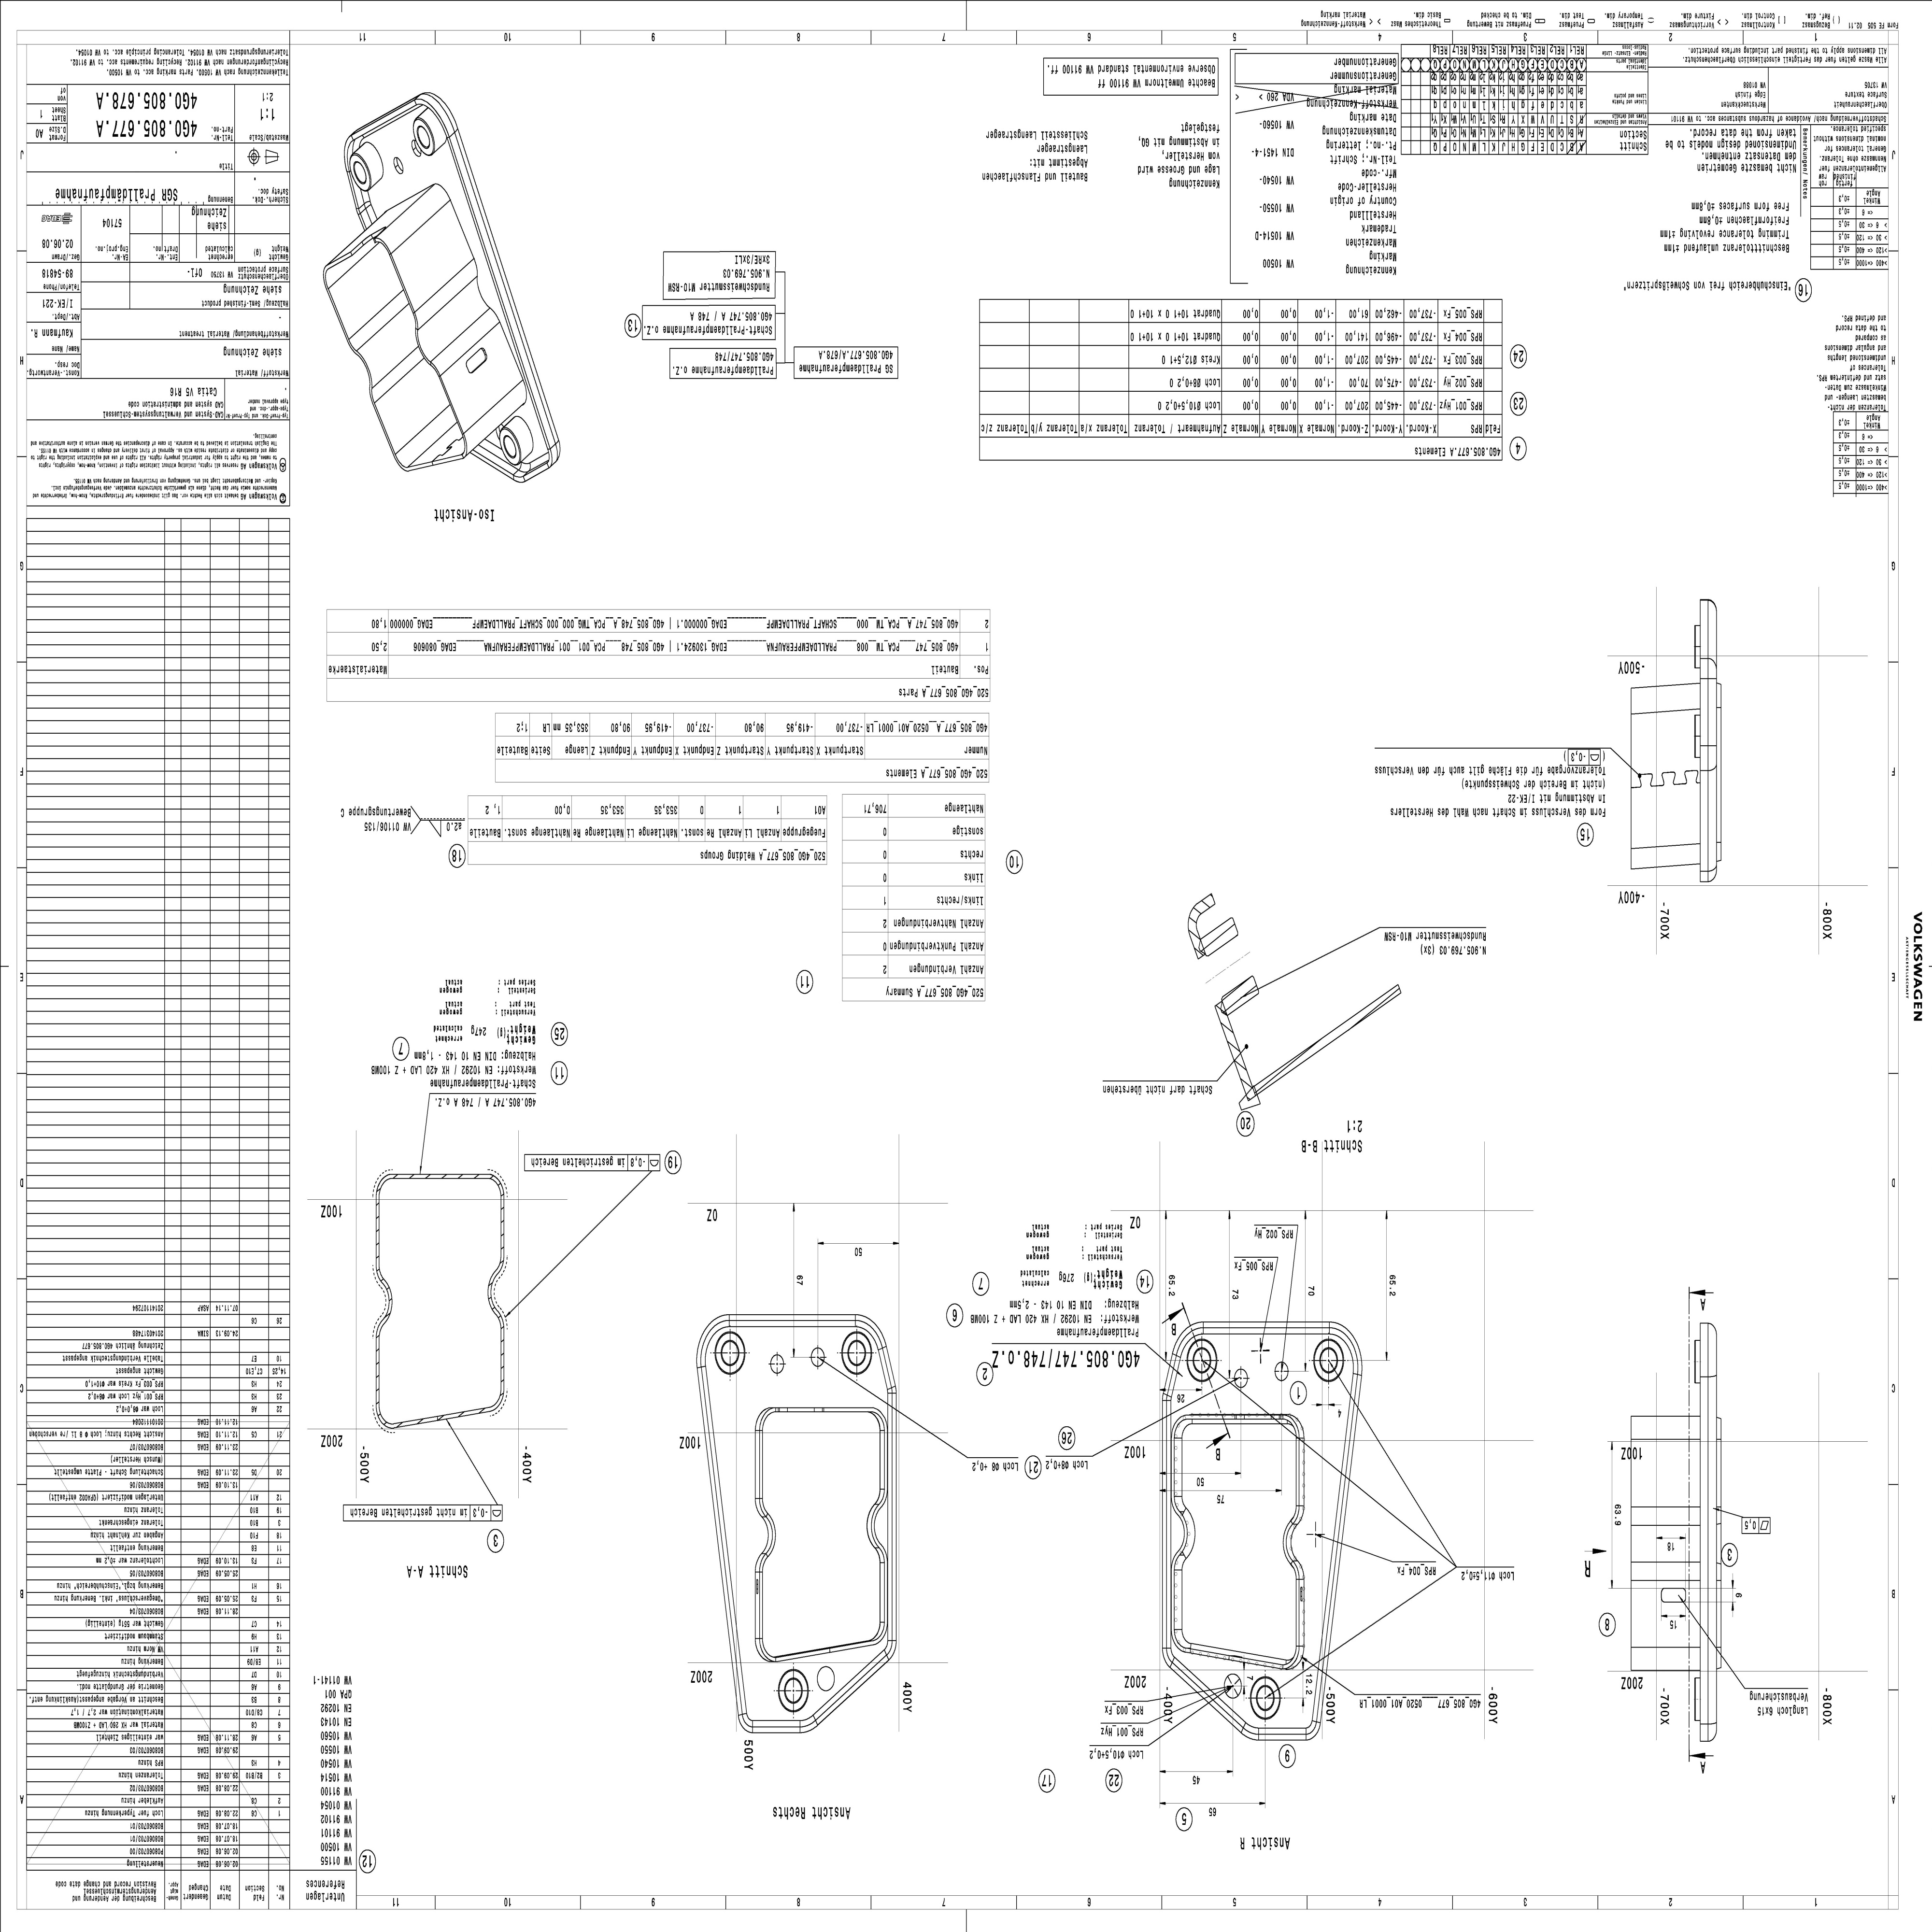InnerContour: (460, 345, 494, 379), (1223, 1672, 1244, 1700), (1660, 1585, 1688, 1605), (766, 1350, 786, 1376), (816, 1667, 835, 1691), (809, 1345, 826, 1369), (1272, 1359, 1290, 1382), (1231, 1368, 1249, 1389), (391, 154, 405, 177), (409, 138, 425, 157)
ThroughHole: (773, 1667, 810, 1713), (1311, 1336, 1346, 1384), (1247, 1675, 1283, 1721), (839, 1330, 874, 1376), (1185, 1339, 1221, 1382), (713, 1330, 747, 1375)
ThroughHoleExternal: (1693, 1675, 1704, 1723), (1691, 623, 1702, 671), (1693, 1336, 1702, 1387), (1693, 713, 1702, 761)
